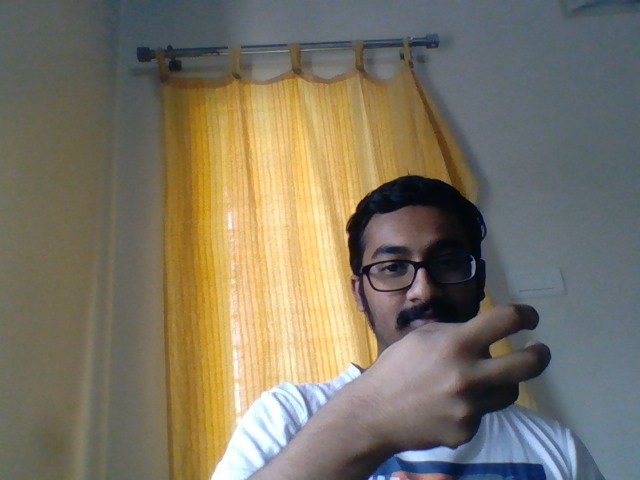thanks: (335, 283, 586, 469)
